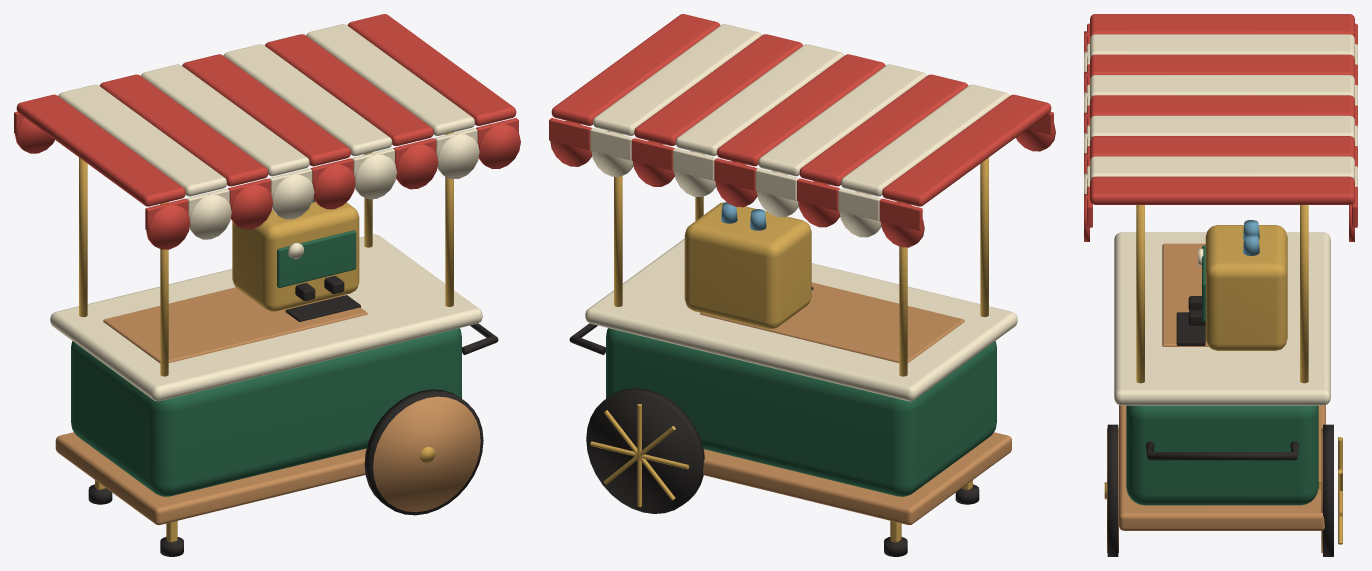
File: street_coffeecart.glb
3 views of the same model, side by side, from view 1: azimuth 30°, elevation 25°; view 2: azimuth 150°, elevation 25°; view 3: azimuth 270°, elevation 25° (orthographic).
Visible parts, largest first — view 1: Body, Counter, Wheel-0.43, Well, Base, Machine, Stripe0, Stripe1, Stripe2, Stripe4, Stripe3, Stripe5 (+19 smaller); view 2: Body, Counter, Machine, Wheel0.46Tyre, Base, Well, Stripe0, Stripe2, Stripe3, Stripe4, Stripe5, Stripe1 (+25 smaller); view 3: Counter, Body, Machine, Stripe8, Base, Stripe0, Stripe2, Stripe5, Stripe1, Stripe3, Stripe4, Stripe6 (+8 smaller).
Boxes of the visible parts, x1,y1,x2,y2 form: Body: [71, 328, 461, 496]; Counter: [50, 234, 482, 401]; Wheel-0.43: [373, 396, 480, 512]; Well: [103, 287, 367, 363]; Base: [55, 432, 366, 525]; Machine: [232, 202, 359, 311]; Stripe0: [16, 94, 185, 206]; Stripe1: [58, 84, 226, 196]; Stripe2: [99, 74, 268, 186]; Stripe4: [182, 54, 350, 166]; Stripe3: [141, 64, 309, 176]; Stripe5: [223, 44, 392, 156]; Body: [606, 328, 996, 496]; Counter: [585, 238, 1017, 401]; Machine: [684, 202, 811, 328]; Wheel0.46Tyre: [586, 388, 704, 513]; Base: [703, 432, 1011, 525]; Well: [700, 282, 964, 363]; Stripe0: [882, 94, 1051, 206]; Stripe2: [799, 74, 968, 186]; Stripe3: [758, 64, 926, 176]; Stripe4: [717, 54, 885, 166]; Stripe5: [675, 44, 844, 156]; Stripe1: [841, 84, 1009, 196]; Counter: [1114, 232, 1330, 405]; Body: [1126, 405, 1318, 505]; Machine: [1205, 225, 1287, 350]; Stripe8: [1090, 176, 1354, 204]; Base: [1119, 405, 1325, 530]; Stripe0: [1090, 14, 1354, 37]; Stripe2: [1090, 54, 1354, 78]; Stripe5: [1090, 115, 1354, 139]; Stripe1: [1090, 34, 1354, 57]; Stripe3: [1090, 75, 1354, 98]; Stripe4: [1090, 95, 1354, 118]; Stripe6: [1090, 136, 1354, 159].
Size of the model in its own units: 1.84 by 1.82 by 1.14.
